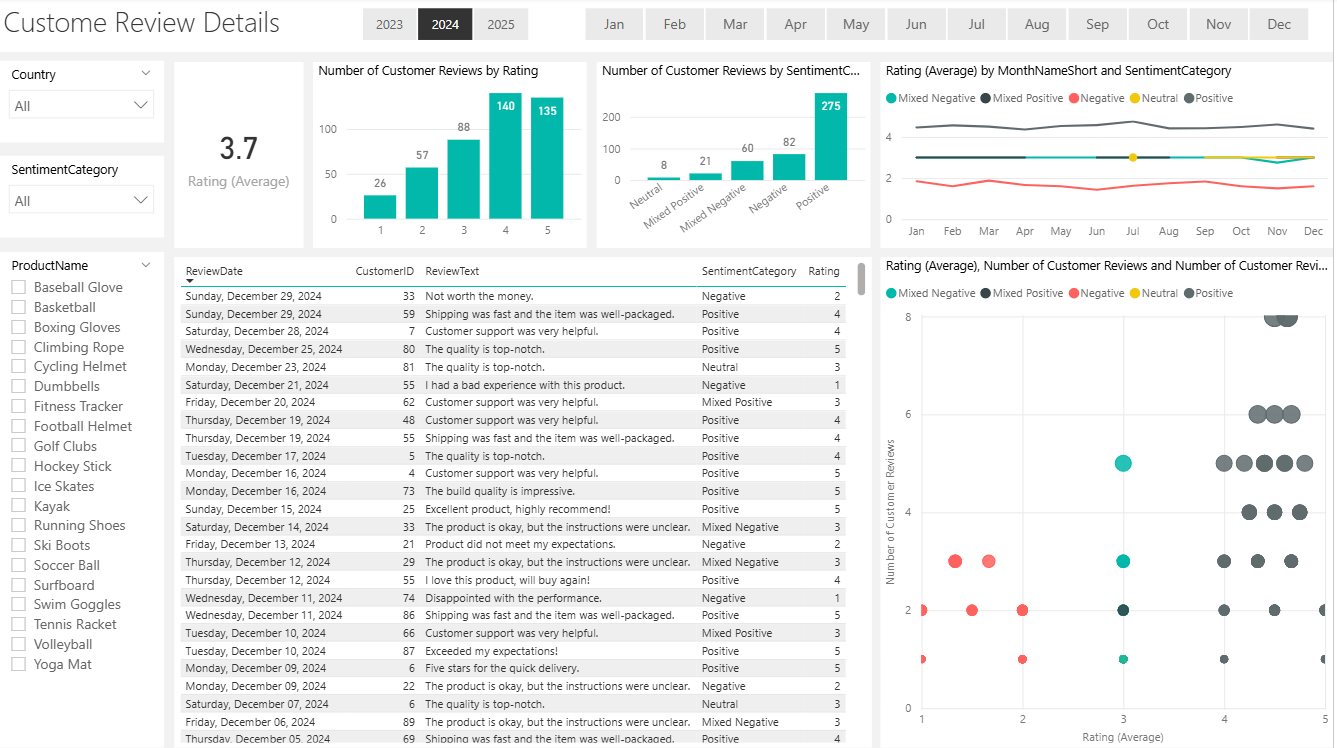

This screenshot's page, from the dashboard's own definition file:
{"tool":"powerbi","page":{"name":"Customer Review Details","canvas":[1280,720],"ordinal":3},"visuals":[{"type":"textbox","box":[0,0,1280,52.6],"z":0},{"type":"slicer","fields":{"Values":["dim_products.ProductName"]},"box":[0,244.2,159.3,475.3],"z":1000},{"type":"card","fields":{"Values":["_Calculations.Rating (Average)"]},"box":[168.5,61.9,123.8,178.5],"z":2000},{"type":"slicer","fields":{"Values":["Calendar.MonthNameShort"]},"box":[536.8,4.1,743.2,44.4],"z":3000},{"type":"lineChart","fields":{"Category":["Calendar.MonthNameShort"],"Series":["fact_customer_reviews_with_sentiment.SentimentCategory"],"Y":["_Calculations.Rating (Average)"]},"box":[846.2,62,434.1,178.4],"z":4000},{"type":"slicer","fields":{"Values":["Calendar.Year"]},"box":[324.1,4.1,208.5,44.4],"z":5000},{"type":"tableEx","fields":{"Values":["fact_customer_reviews_with_sentiment.ReviewDate","fact_customer_reviews_with_sentiment.CustomerID","fact_customer_reviews_with_sentiment.ReviewText","fact_customer_reviews_with_sentiment.SentimentCategory","fact_customer_reviews_with_sentiment.Rating"]},"box":[168.5,249.5,668.4,470.8],"z":6000},{"type":"columnChart","fields":{"Category":["fact_customer_reviews_with_sentiment.Rating"],"Y":["_Calculations.Number of Customer Reviews"]},"box":[302.4,62,262.4,178.4],"z":7000},{"type":"columnChart","fields":{"Category":["fact_customer_reviews_with_sentiment.SentimentCategory"],"Y":["_Calculations.Number of Customer Reviews"]},"box":[574.3,62,262.4,178.4],"z":8000},{"type":"slicer","fields":{"Values":["dim_customers.Country"]},"box":[0,61.4,159.3,78.3],"z":9000},{"type":"slicer","fields":{"Values":["fact_customer_reviews_with_sentiment.SentimentCategory"]},"box":[0,152.8,159.3,78.3],"z":10000},{"type":"scatterChart","fields":{"Category":["dim_customers.CustomerID"],"Series":["fact_customer_reviews_with_sentiment.SentimentCategory"],"Size":["_Calculations.Number of Customer Reviews"],"X":["_Calculations.Rating (Average)"],"Y":["_Calculations.Number of Customer Reviews"]},"box":[846,249.5,434.4,470.8],"z":11000}]}

Visuals, with their boxes in screenshot pixels (x1, y1, x2, y2), scaled from the page's 1280x720 canvas onto the 1337x748 screenshot:
textbox: <box>0,0,1336,55</box>
slicer - dim_products.ProductName: <box>0,254,166,747</box>
card - _Calculations.Rating (Average): <box>176,64,305,250</box>
slicer - Calendar.MonthNameShort: <box>561,4,1336,50</box>
lineChart - Calendar.MonthNameShort x fact_customer_reviews_with_sentiment.SentimentCategory: <box>884,64,1336,250</box>
slicer - Calendar.Year: <box>339,4,556,50</box>
tableEx - fact_customer_reviews_with_sentiment.ReviewDate x fact_customer_reviews_with_sentiment.CustomerID: <box>176,259,874,747</box>
columnChart - fact_customer_reviews_with_sentiment.Rating x _Calculations.Number of Customer Reviews: <box>316,64,590,250</box>
columnChart - fact_customer_reviews_with_sentiment.SentimentCategory x _Calculations.Number of Customer Reviews: <box>600,64,874,250</box>
slicer - dim_customers.Country: <box>0,64,166,145</box>
slicer - fact_customer_reviews_with_sentiment.SentimentCategory: <box>0,159,166,240</box>
scatterChart - dim_customers.CustomerID x fact_customer_reviews_with_sentiment.SentimentCategory: <box>884,259,1336,747</box>
